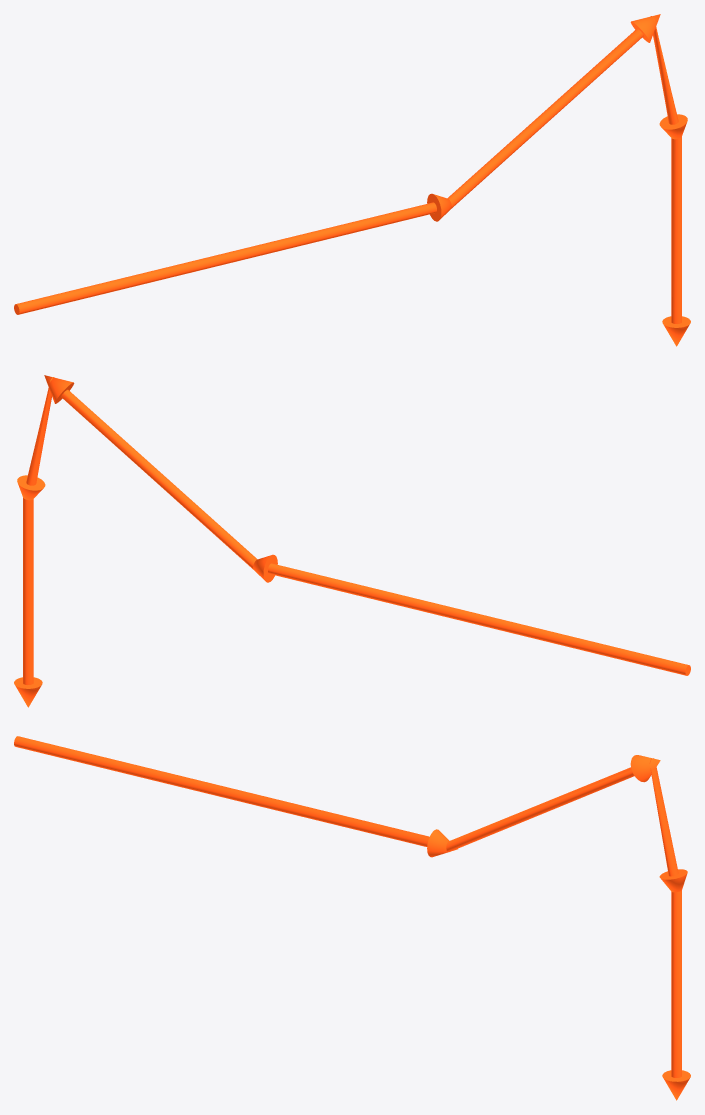
The model's file is tripper_conveyor_flow.glb.
3 views of the same model, one above another, from view 1: azimuth 30°, elevation 25°; view 2: azimuth 150°, elevation 25°; view 3: azimuth 330°, elevation 25° (orthographic).
Parts seen in each view (by area): view 1: coal.001; view 2: coal.001; view 3: coal.001.
Boxes of the visible parts, bbox=[...] form: coal.001: bbox=[14, 14, 690, 346]; coal.001: bbox=[14, 375, 690, 707]; coal.001: bbox=[14, 736, 690, 1100].
Size of the model in its own units: 2.8 by 1.34 by 0.104.
